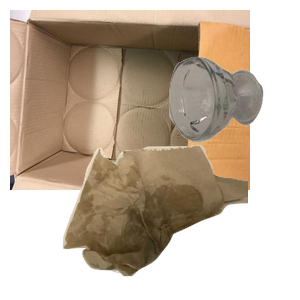cardboard: (10, 10, 250, 190)
glass: (166, 54, 300, 189)
plastic: (88, 158, 229, 300)
trash: (60, 142, 300, 300)
